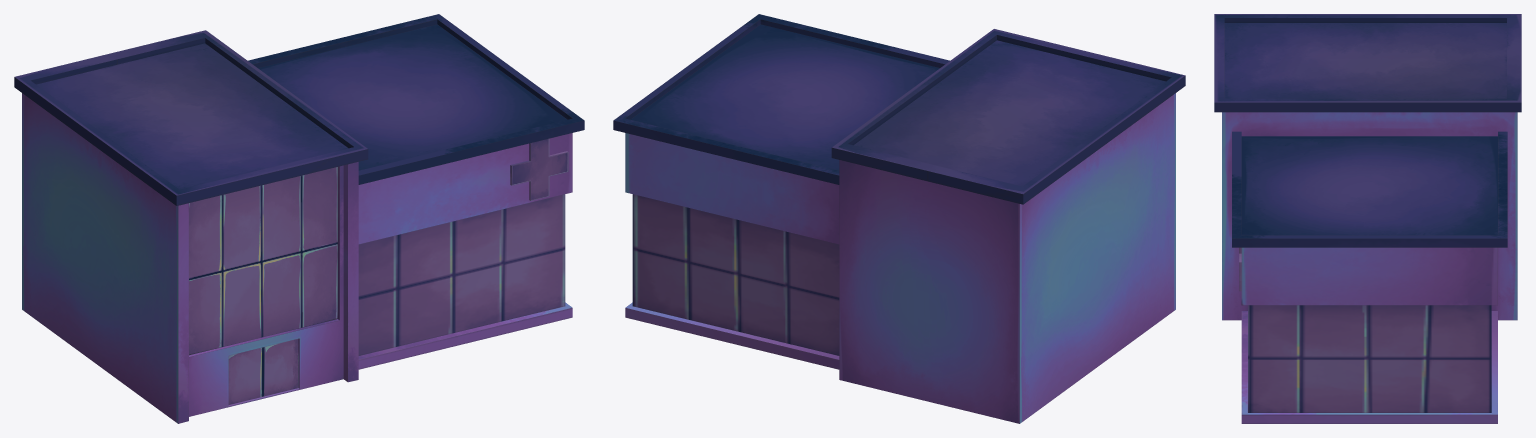
File: SUP_ARCH_Hospital.fbx
3 views of the same model, side by side, from view 1: azimuth 30°, elevation 25°; view 2: azimuth 150°, elevation 25°; view 3: azimuth 270°, elevation 25° (orthographic). The views are drawn at different scales.
Parts seen in each view (by area): view 1: m_superposed_hospital; view 2: m_superposed_hospital; view 3: m_superposed_hospital.
Part boxes in pixels (bbox=[...]): m_superposed_hospital: bbox=[14, 14, 584, 423]; m_superposed_hospital: bbox=[613, 14, 1185, 423]; m_superposed_hospital: bbox=[1214, 14, 1521, 423].
Size of the model in its own units: 1850 by 985 by 1247.
1 material, 1 textured.
